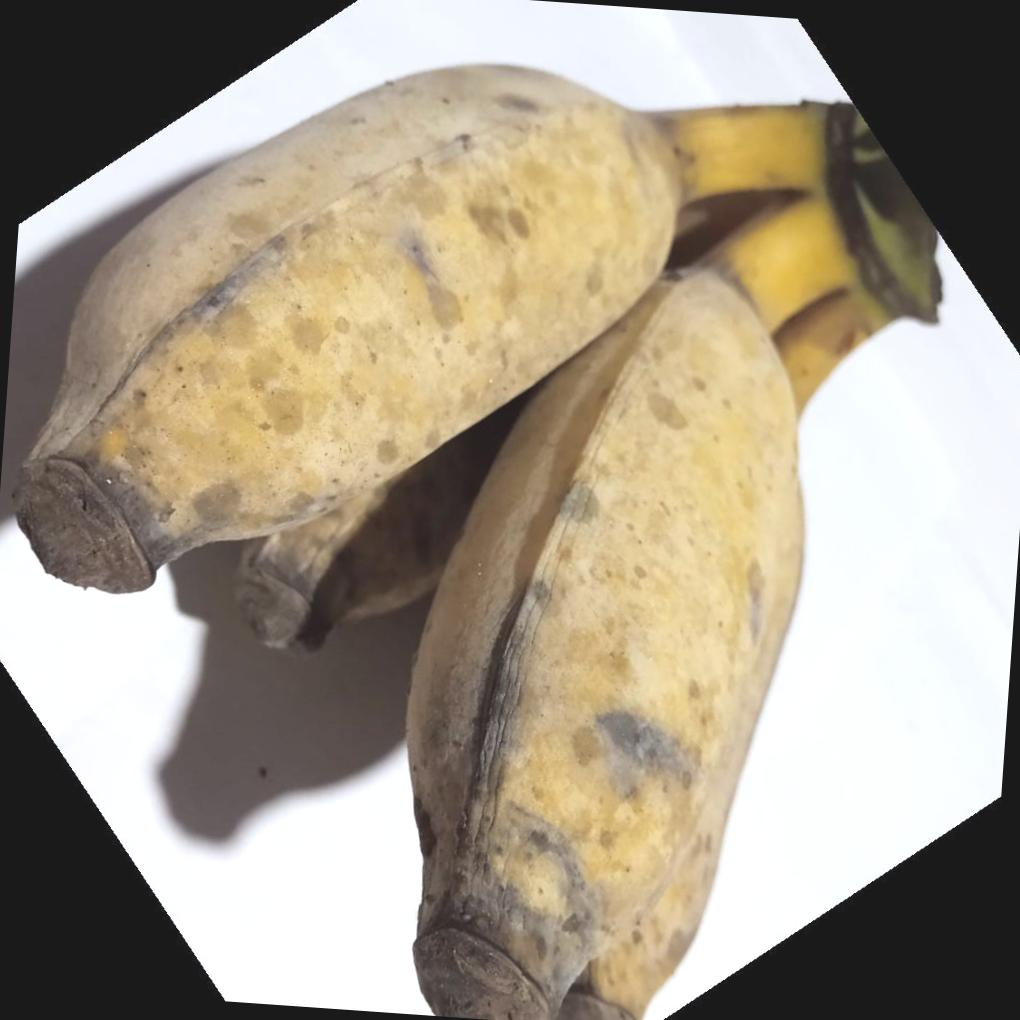Banana Ripe: (364, 61, 1020, 1020), (10, 10, 744, 715)
